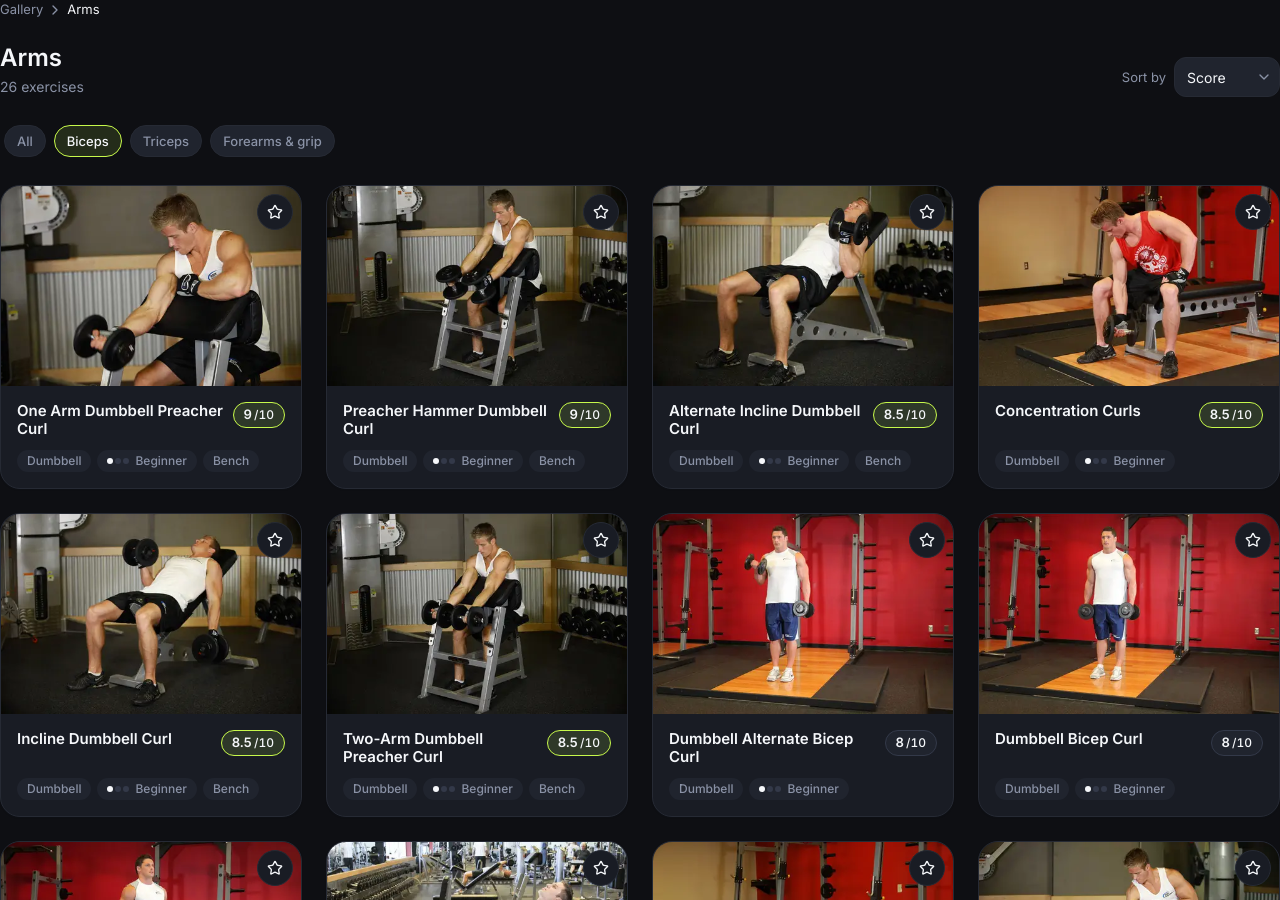
it: Exercise detail (deep-linked dialog) › opens from a card, keeps ?sub= in the URL, and closes back to the album
Click the link with aria-label "Dumbbell Bicep Curl, score 8 out of 10, Beginner" at (1069, 739), box [995,729,1143,748]
(page scrolled)
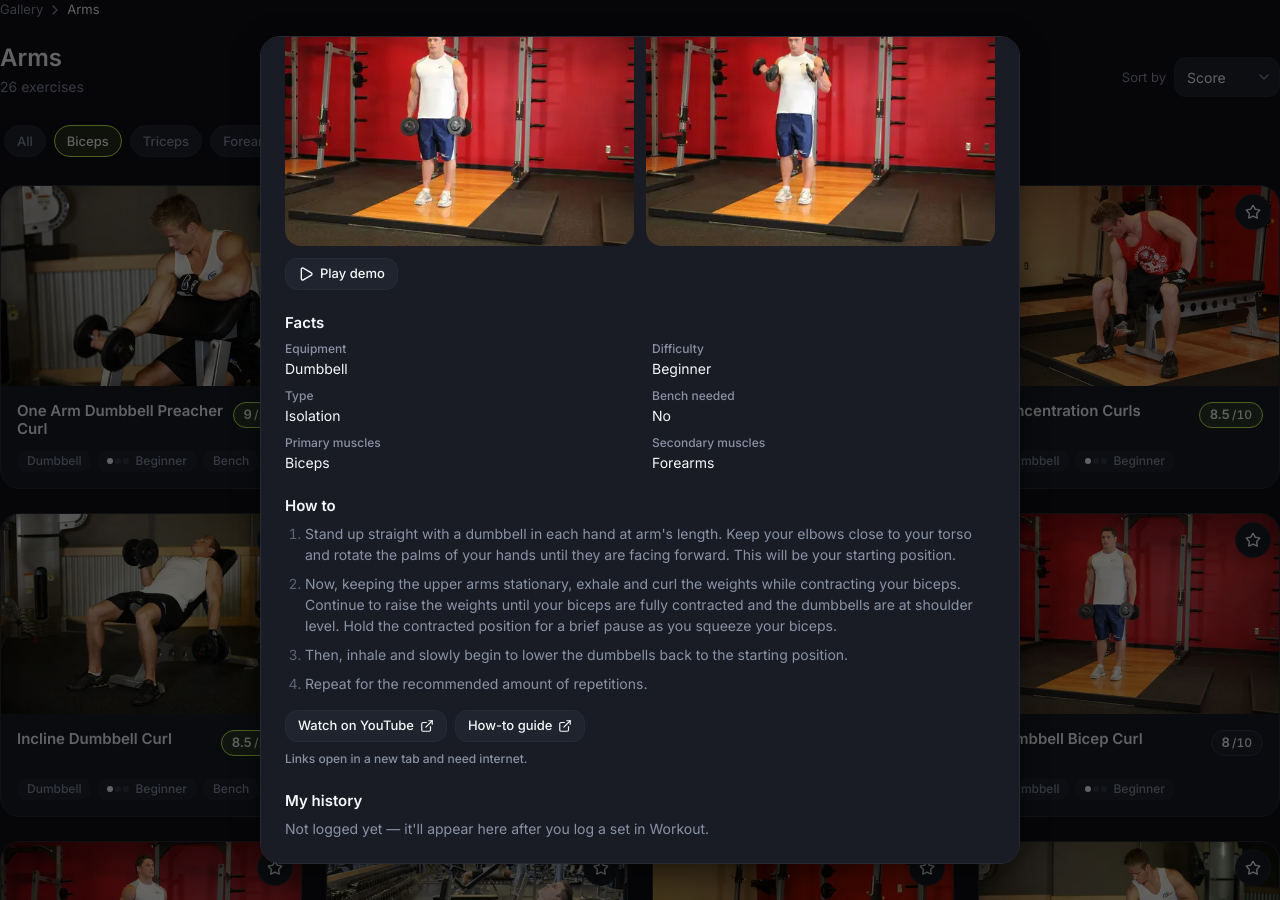
expect the link "Watch on YouTube" is shown: met, box [285,710,447,742]
expect the text "Not logged yet" is shown: met, box [285,820,709,837]
Press Escape
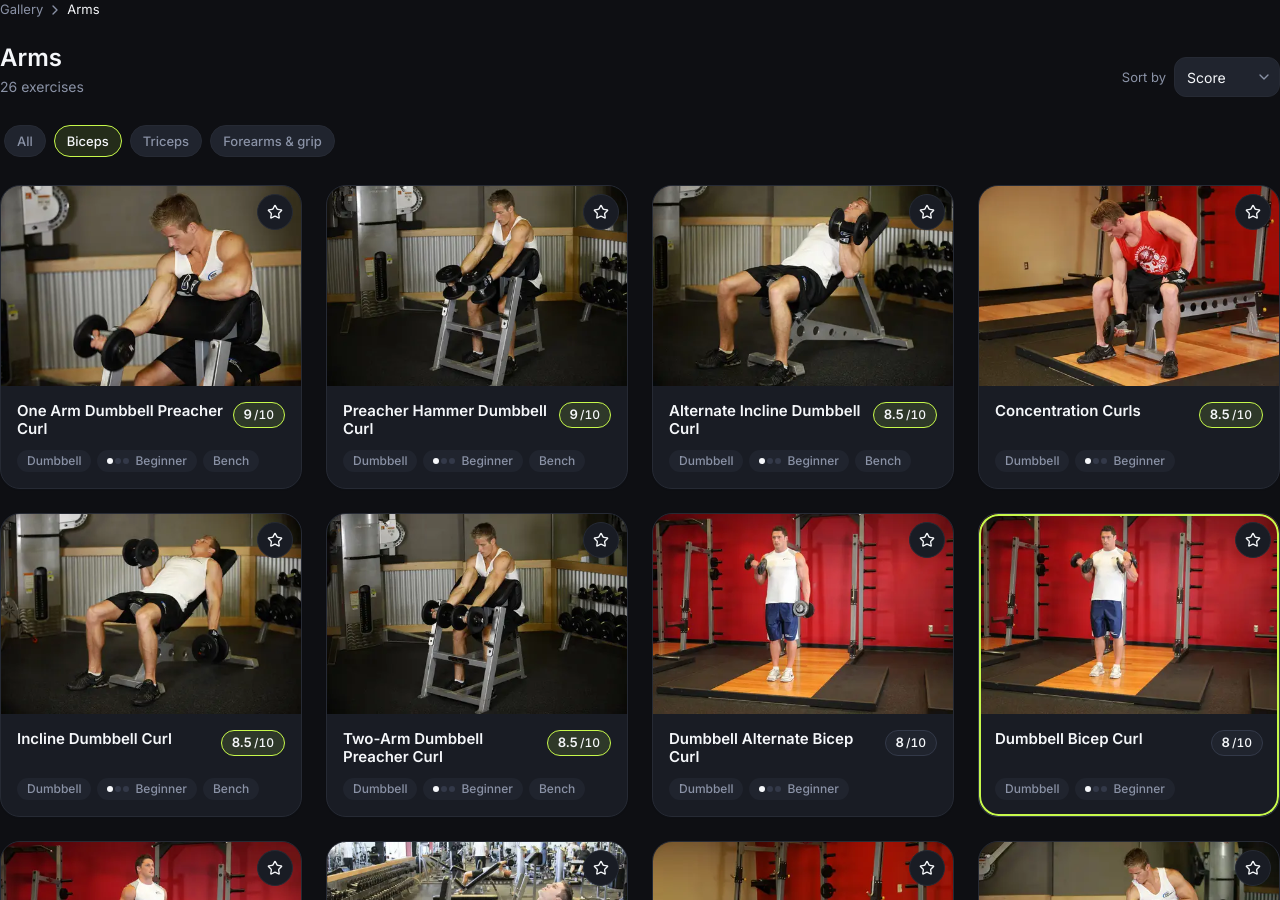
expect the dialog is gone: met
